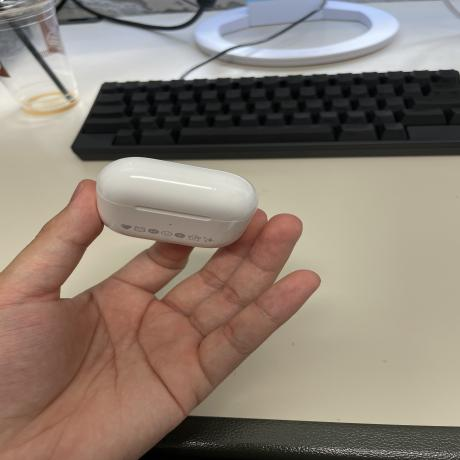airpod3: (80, 147, 268, 257)
